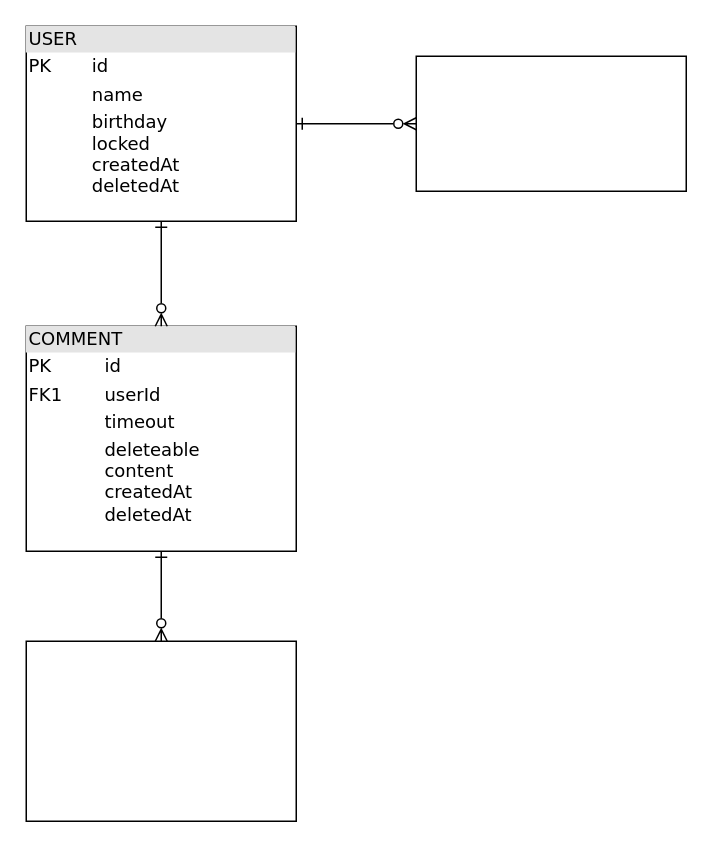
Some shapes in this 713 by 848 pixel diagram are drawn without their labels. Each missing label, with the centre of its shape:
IMAGE PK id FK1 commentId path filename alt: the point at 160,730
USER_FOLLOW PK,FK1 userId PK,FK2 followId: the point at 550,123
